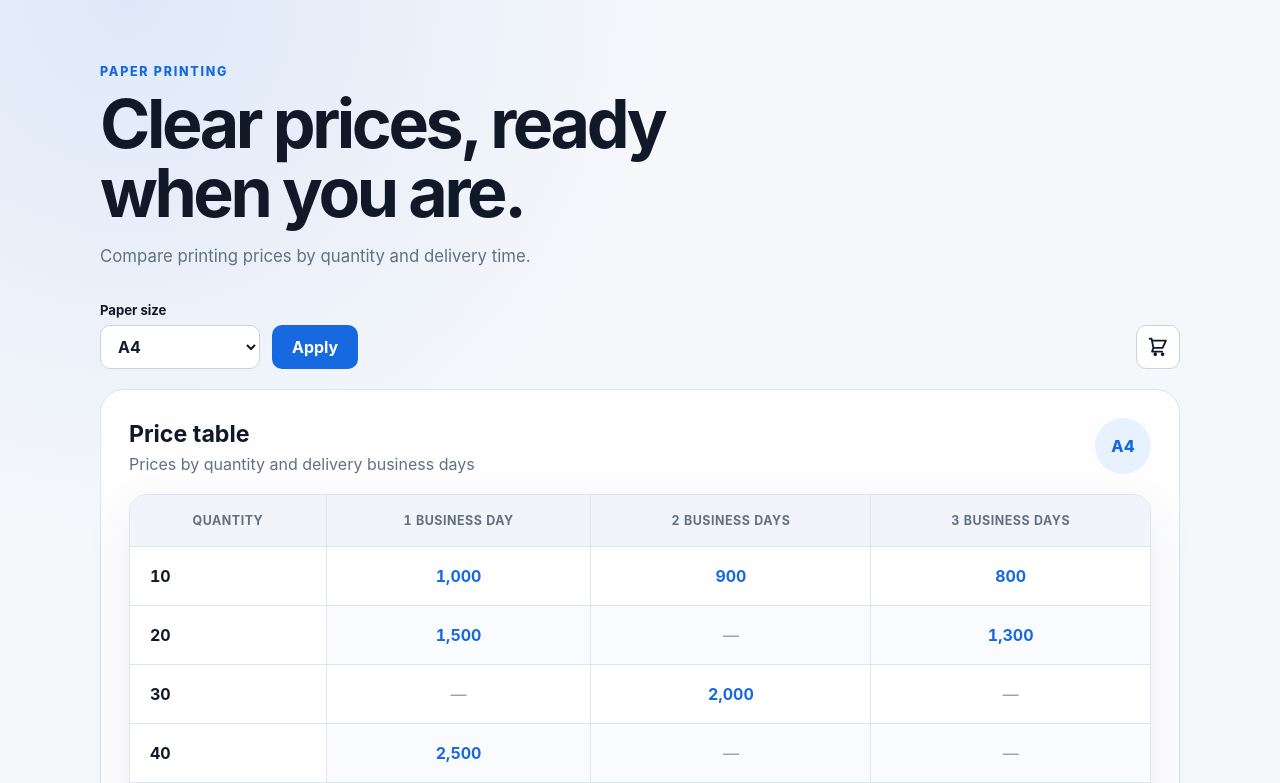
Test: App › disables Add to Cart again once a different size is applied
The width and height of the screenshot is (1280, 783).
Click the button named "Select 1,000, quantity 10, 1 business day". click: (459, 576)
box: [327,547,590,605]
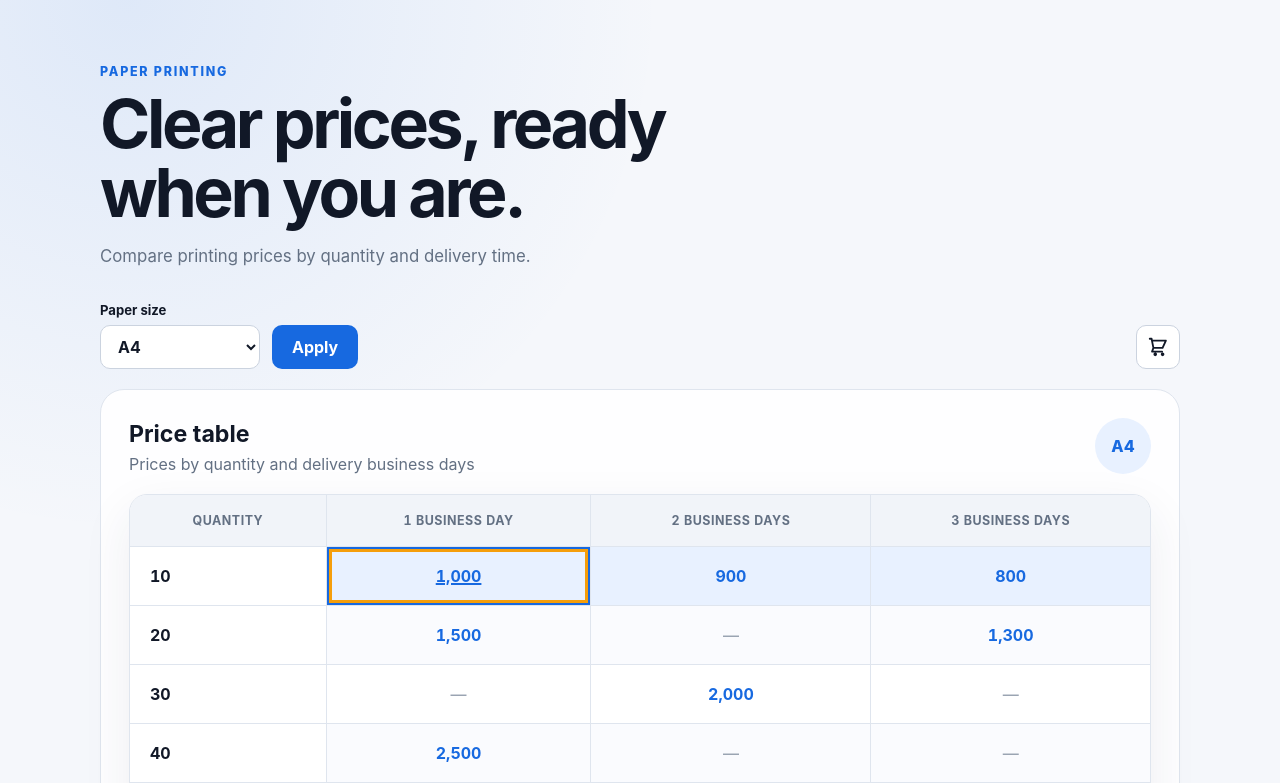
Select "A5" in the dropdown labelled "Paper size". click: (180, 347)
box: [100,325,260,369]
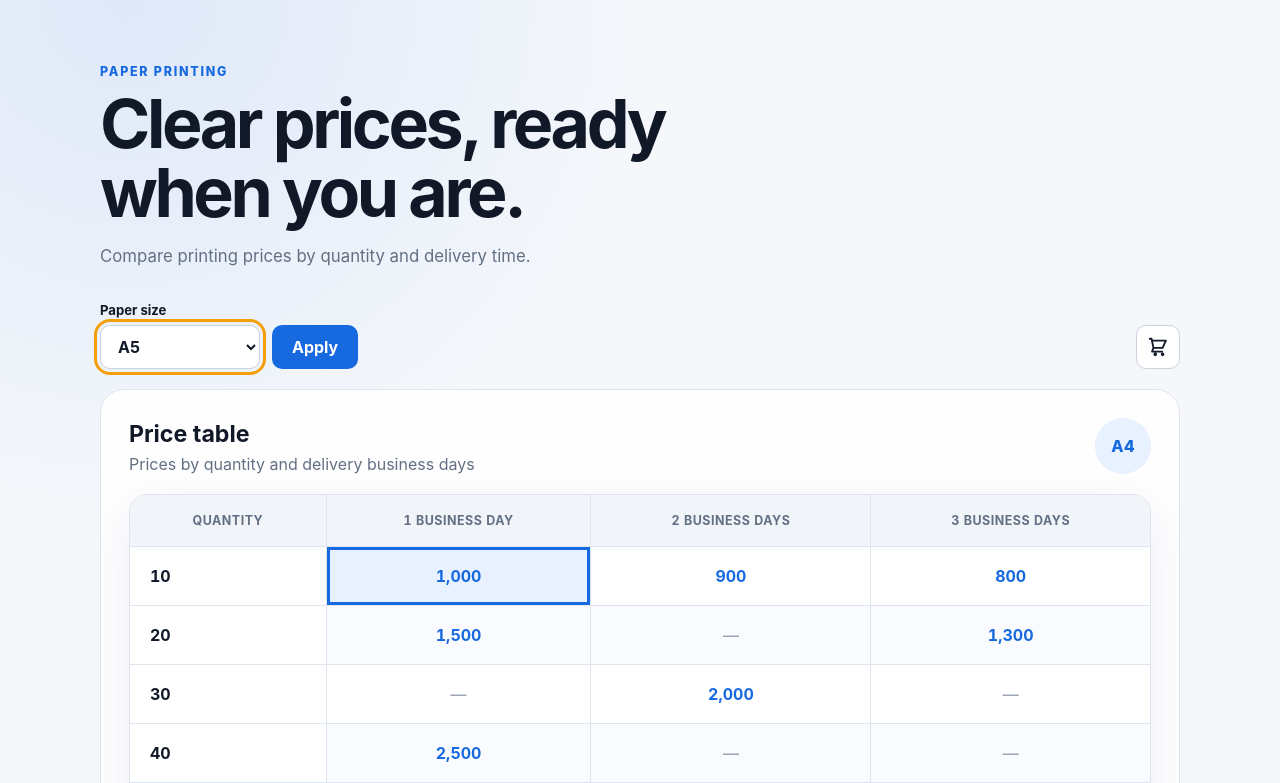
Click the button "Apply". click: (315, 347)
box: [272,325,358,369]
(page scrolled)
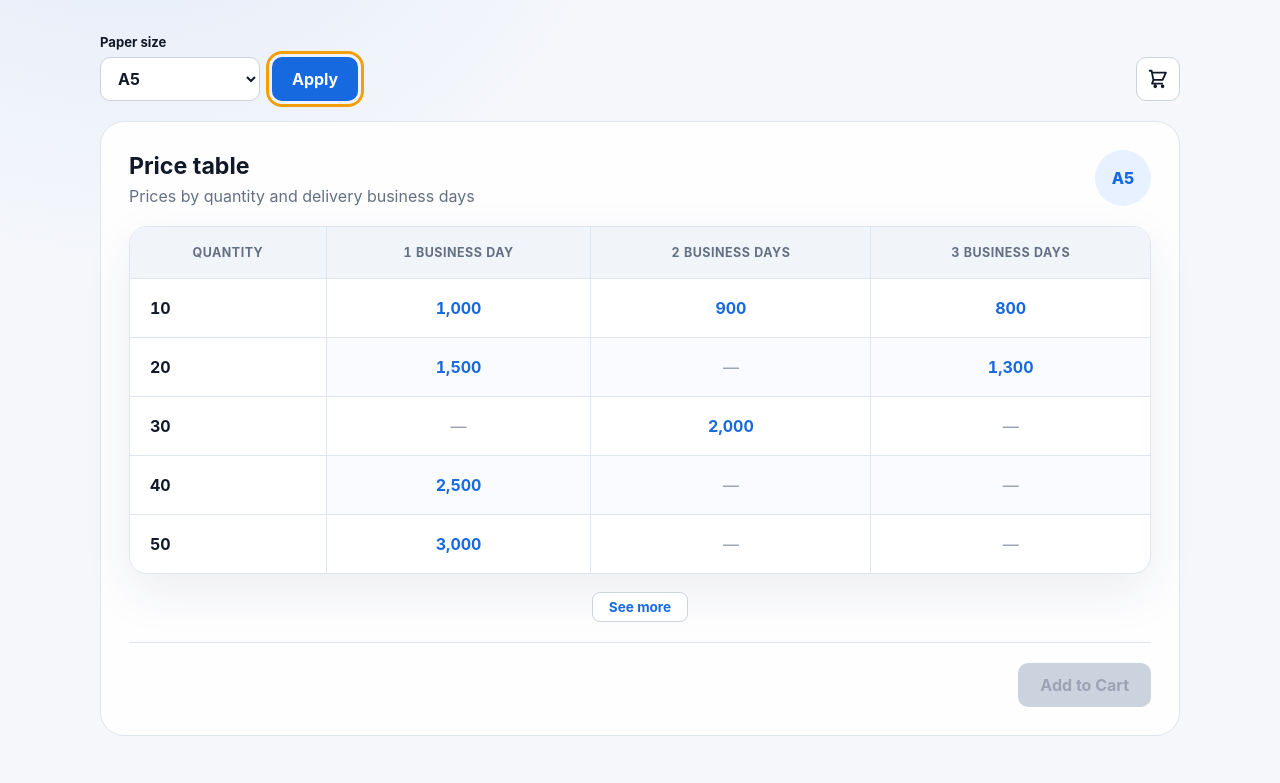
Now the button "Add to Cart" is disabled, box [1018,663,1151,707]
